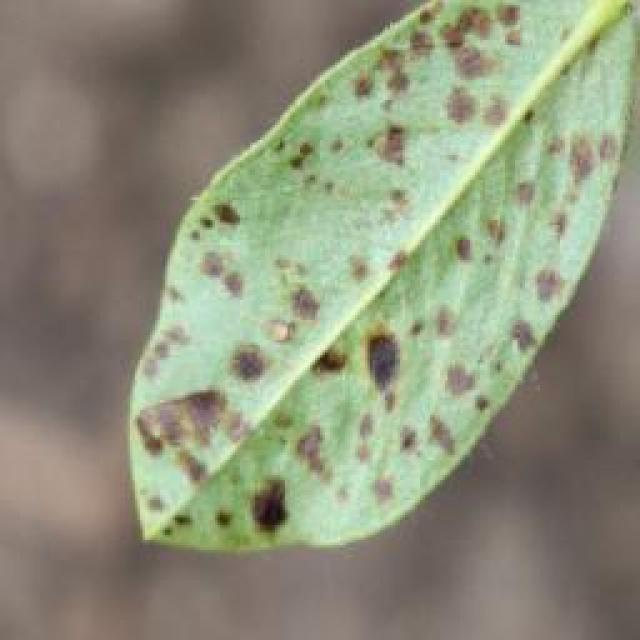Whitefly: (118, 0, 640, 573)
